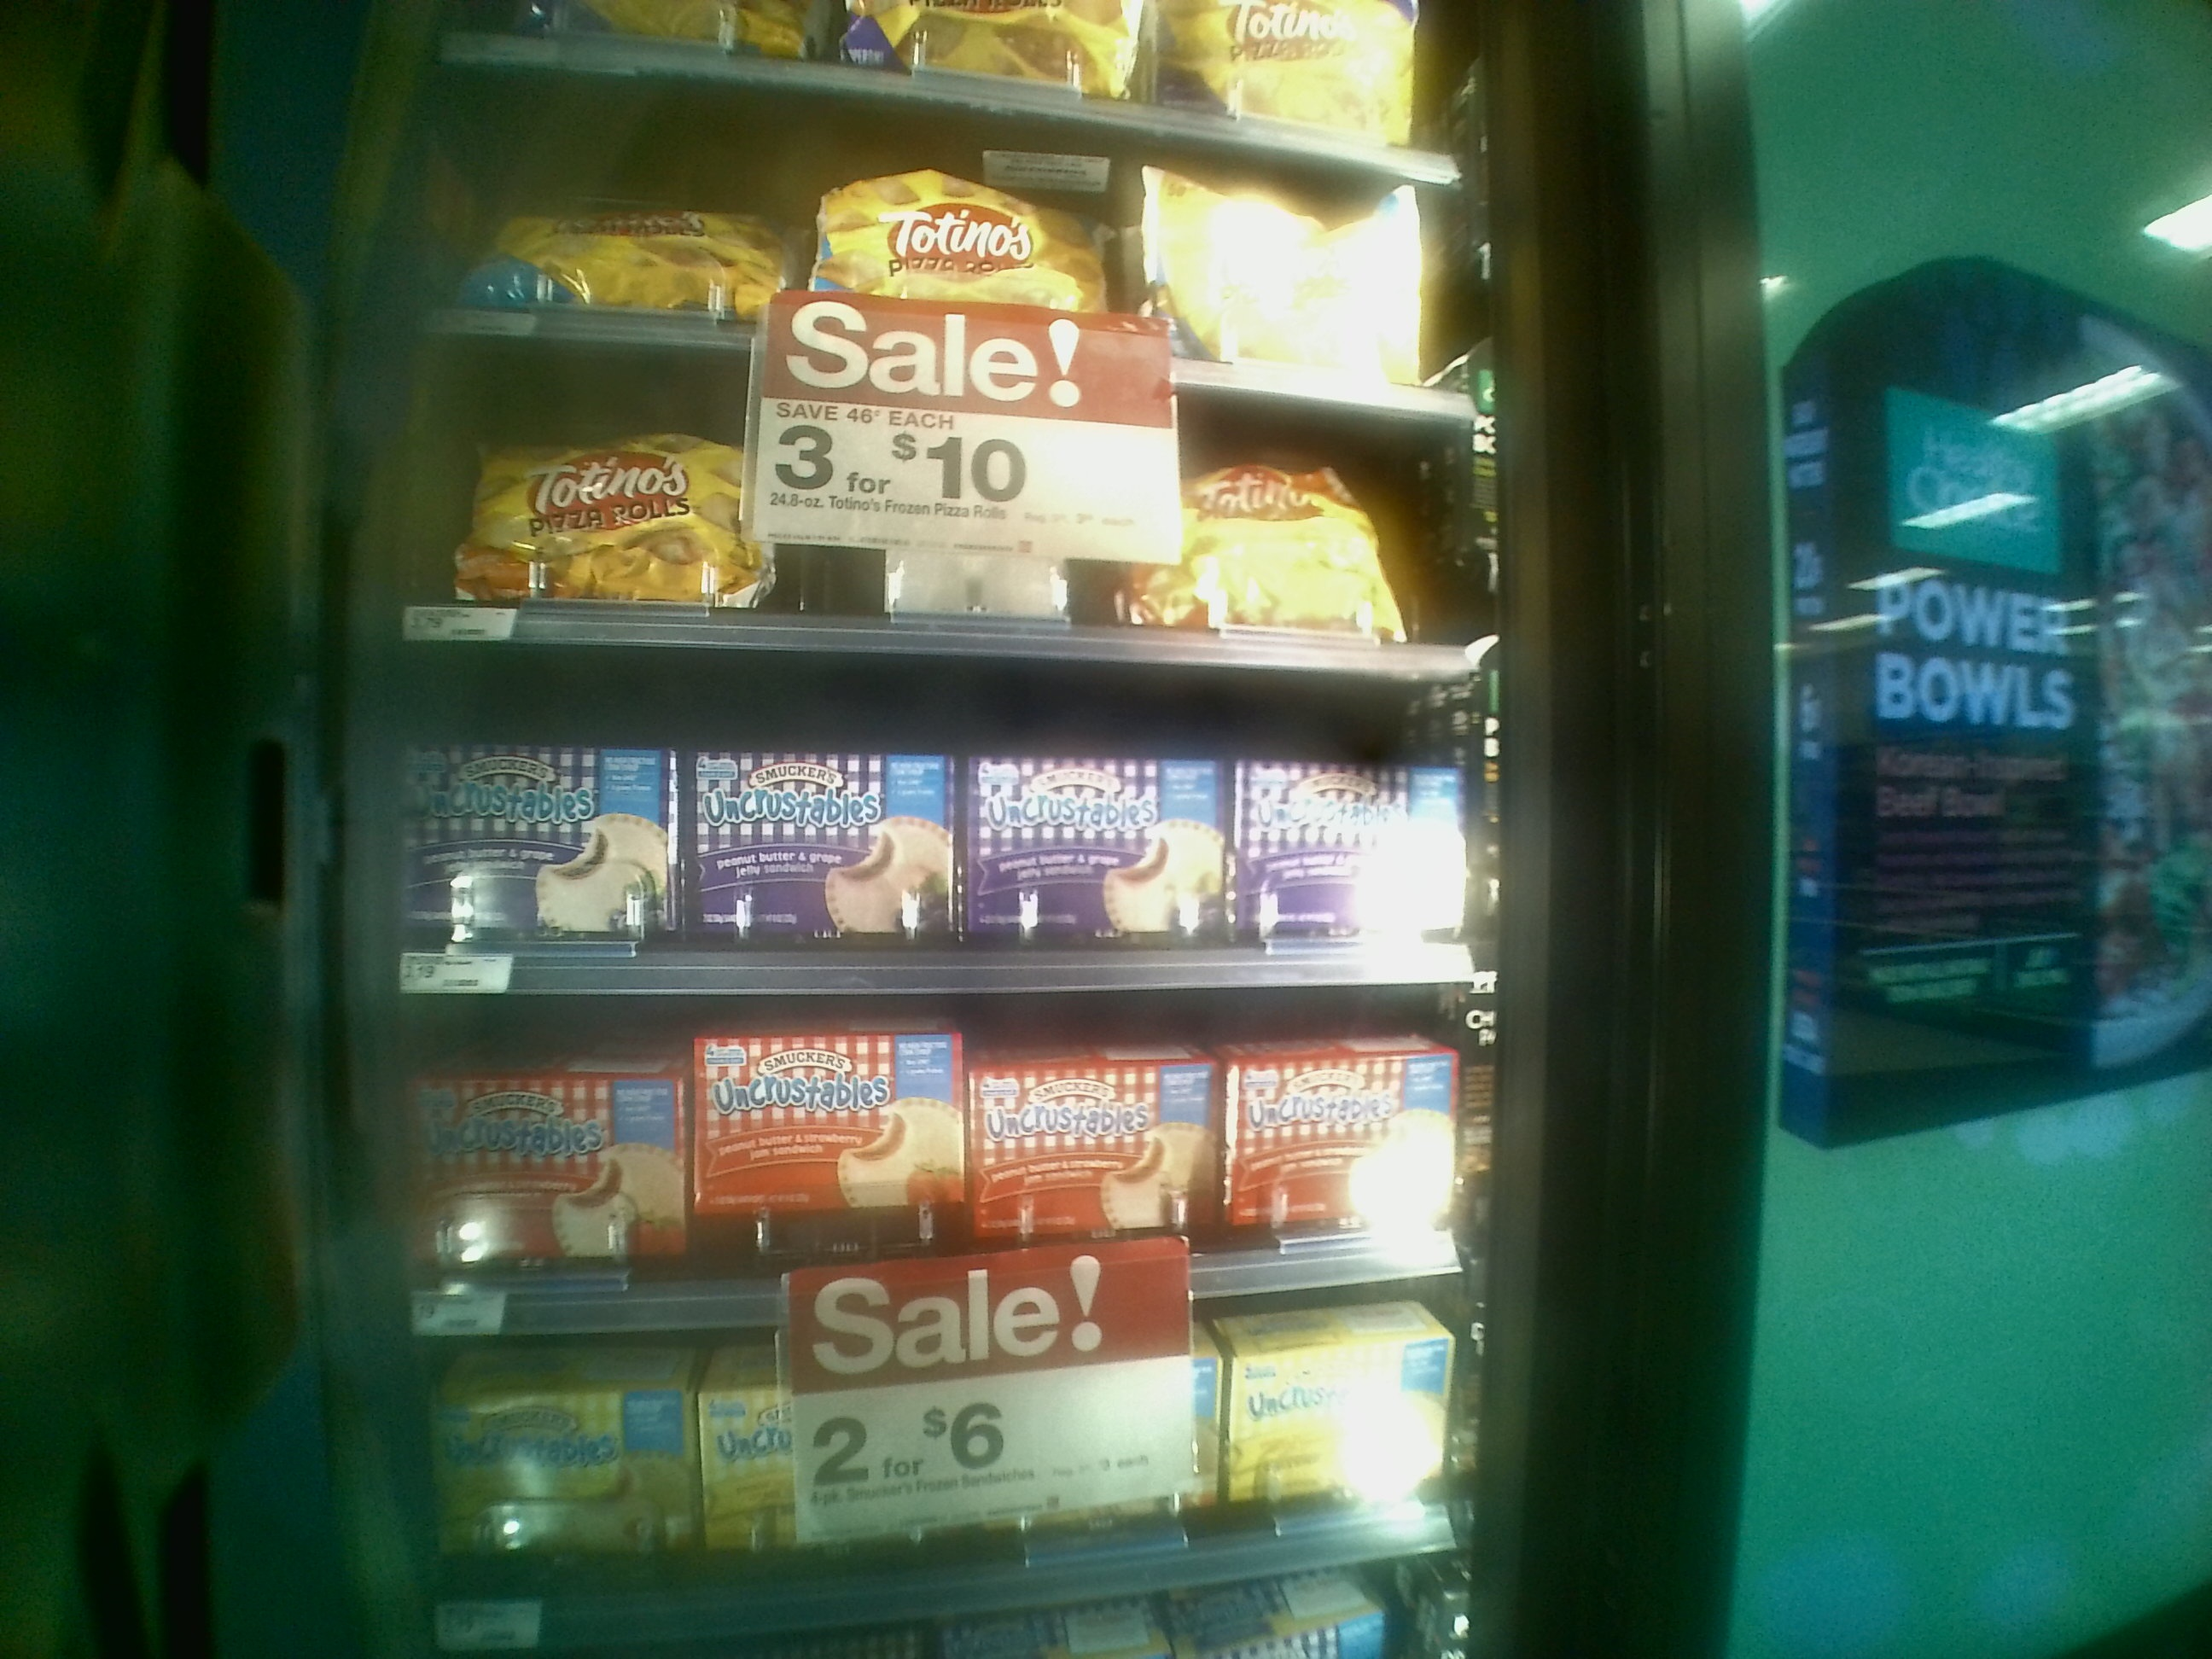shelf: (380, 315, 1460, 680), (341, 957, 1474, 1298), (359, 636, 1463, 978), (354, 1290, 1456, 1567)
